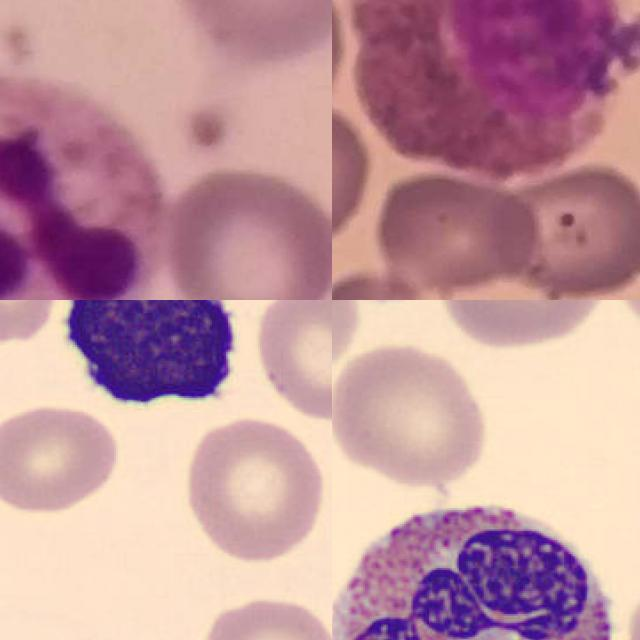Eosinophil: (346, 0, 640, 178), (332, 478, 638, 640)
Lymphocyte: (50, 300, 251, 419)
Neutrophil: (0, 73, 169, 300)
Platelets: (354, 300, 428, 307)
RBC: (332, 340, 492, 490), (178, 412, 331, 567), (0, 398, 121, 518), (432, 300, 619, 355), (251, 300, 332, 424), (194, 592, 332, 640), (332, 300, 365, 372)
